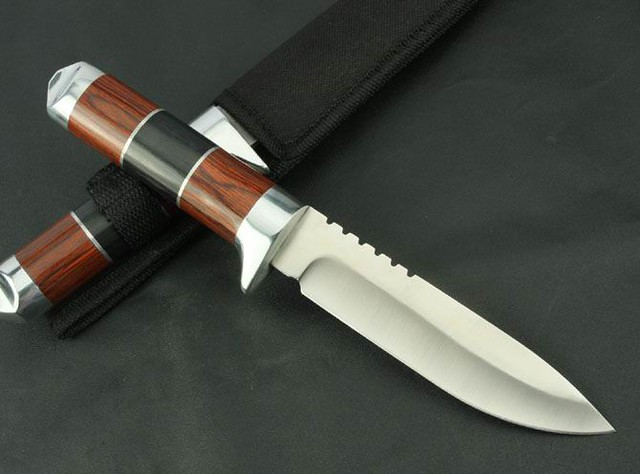knife: (42, 58, 619, 439)
